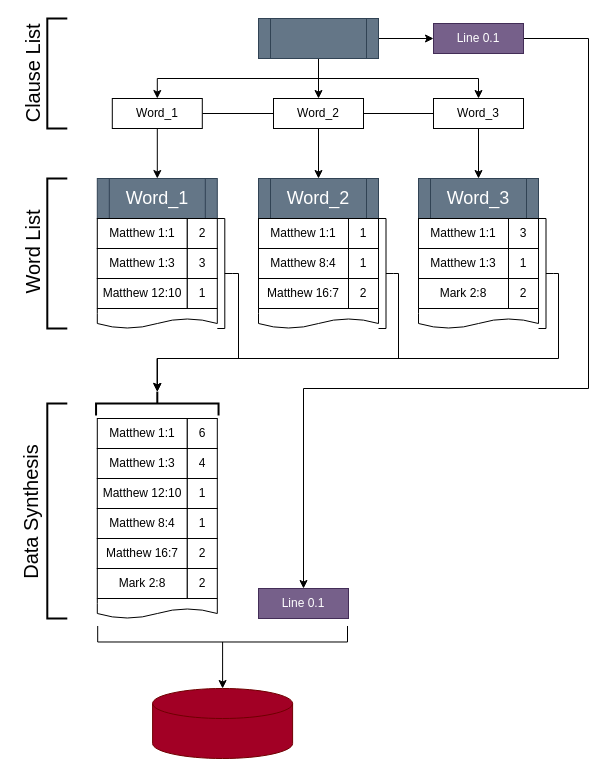
Image size: 614x776. Some labels were removed from this diagram. Here are the shapes that lost their labels. From the top down, the centre of each, then its label:
At (318,38): "Clause_1".
At (222,723): "prob_data_raw.json".
